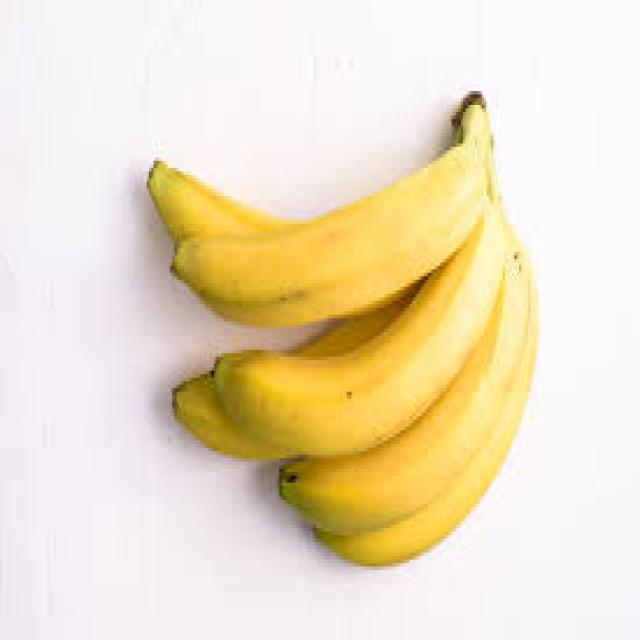Banana: (280, 224, 537, 563), (215, 199, 501, 456), (175, 138, 489, 324), (149, 160, 294, 241), (174, 374, 289, 457)
